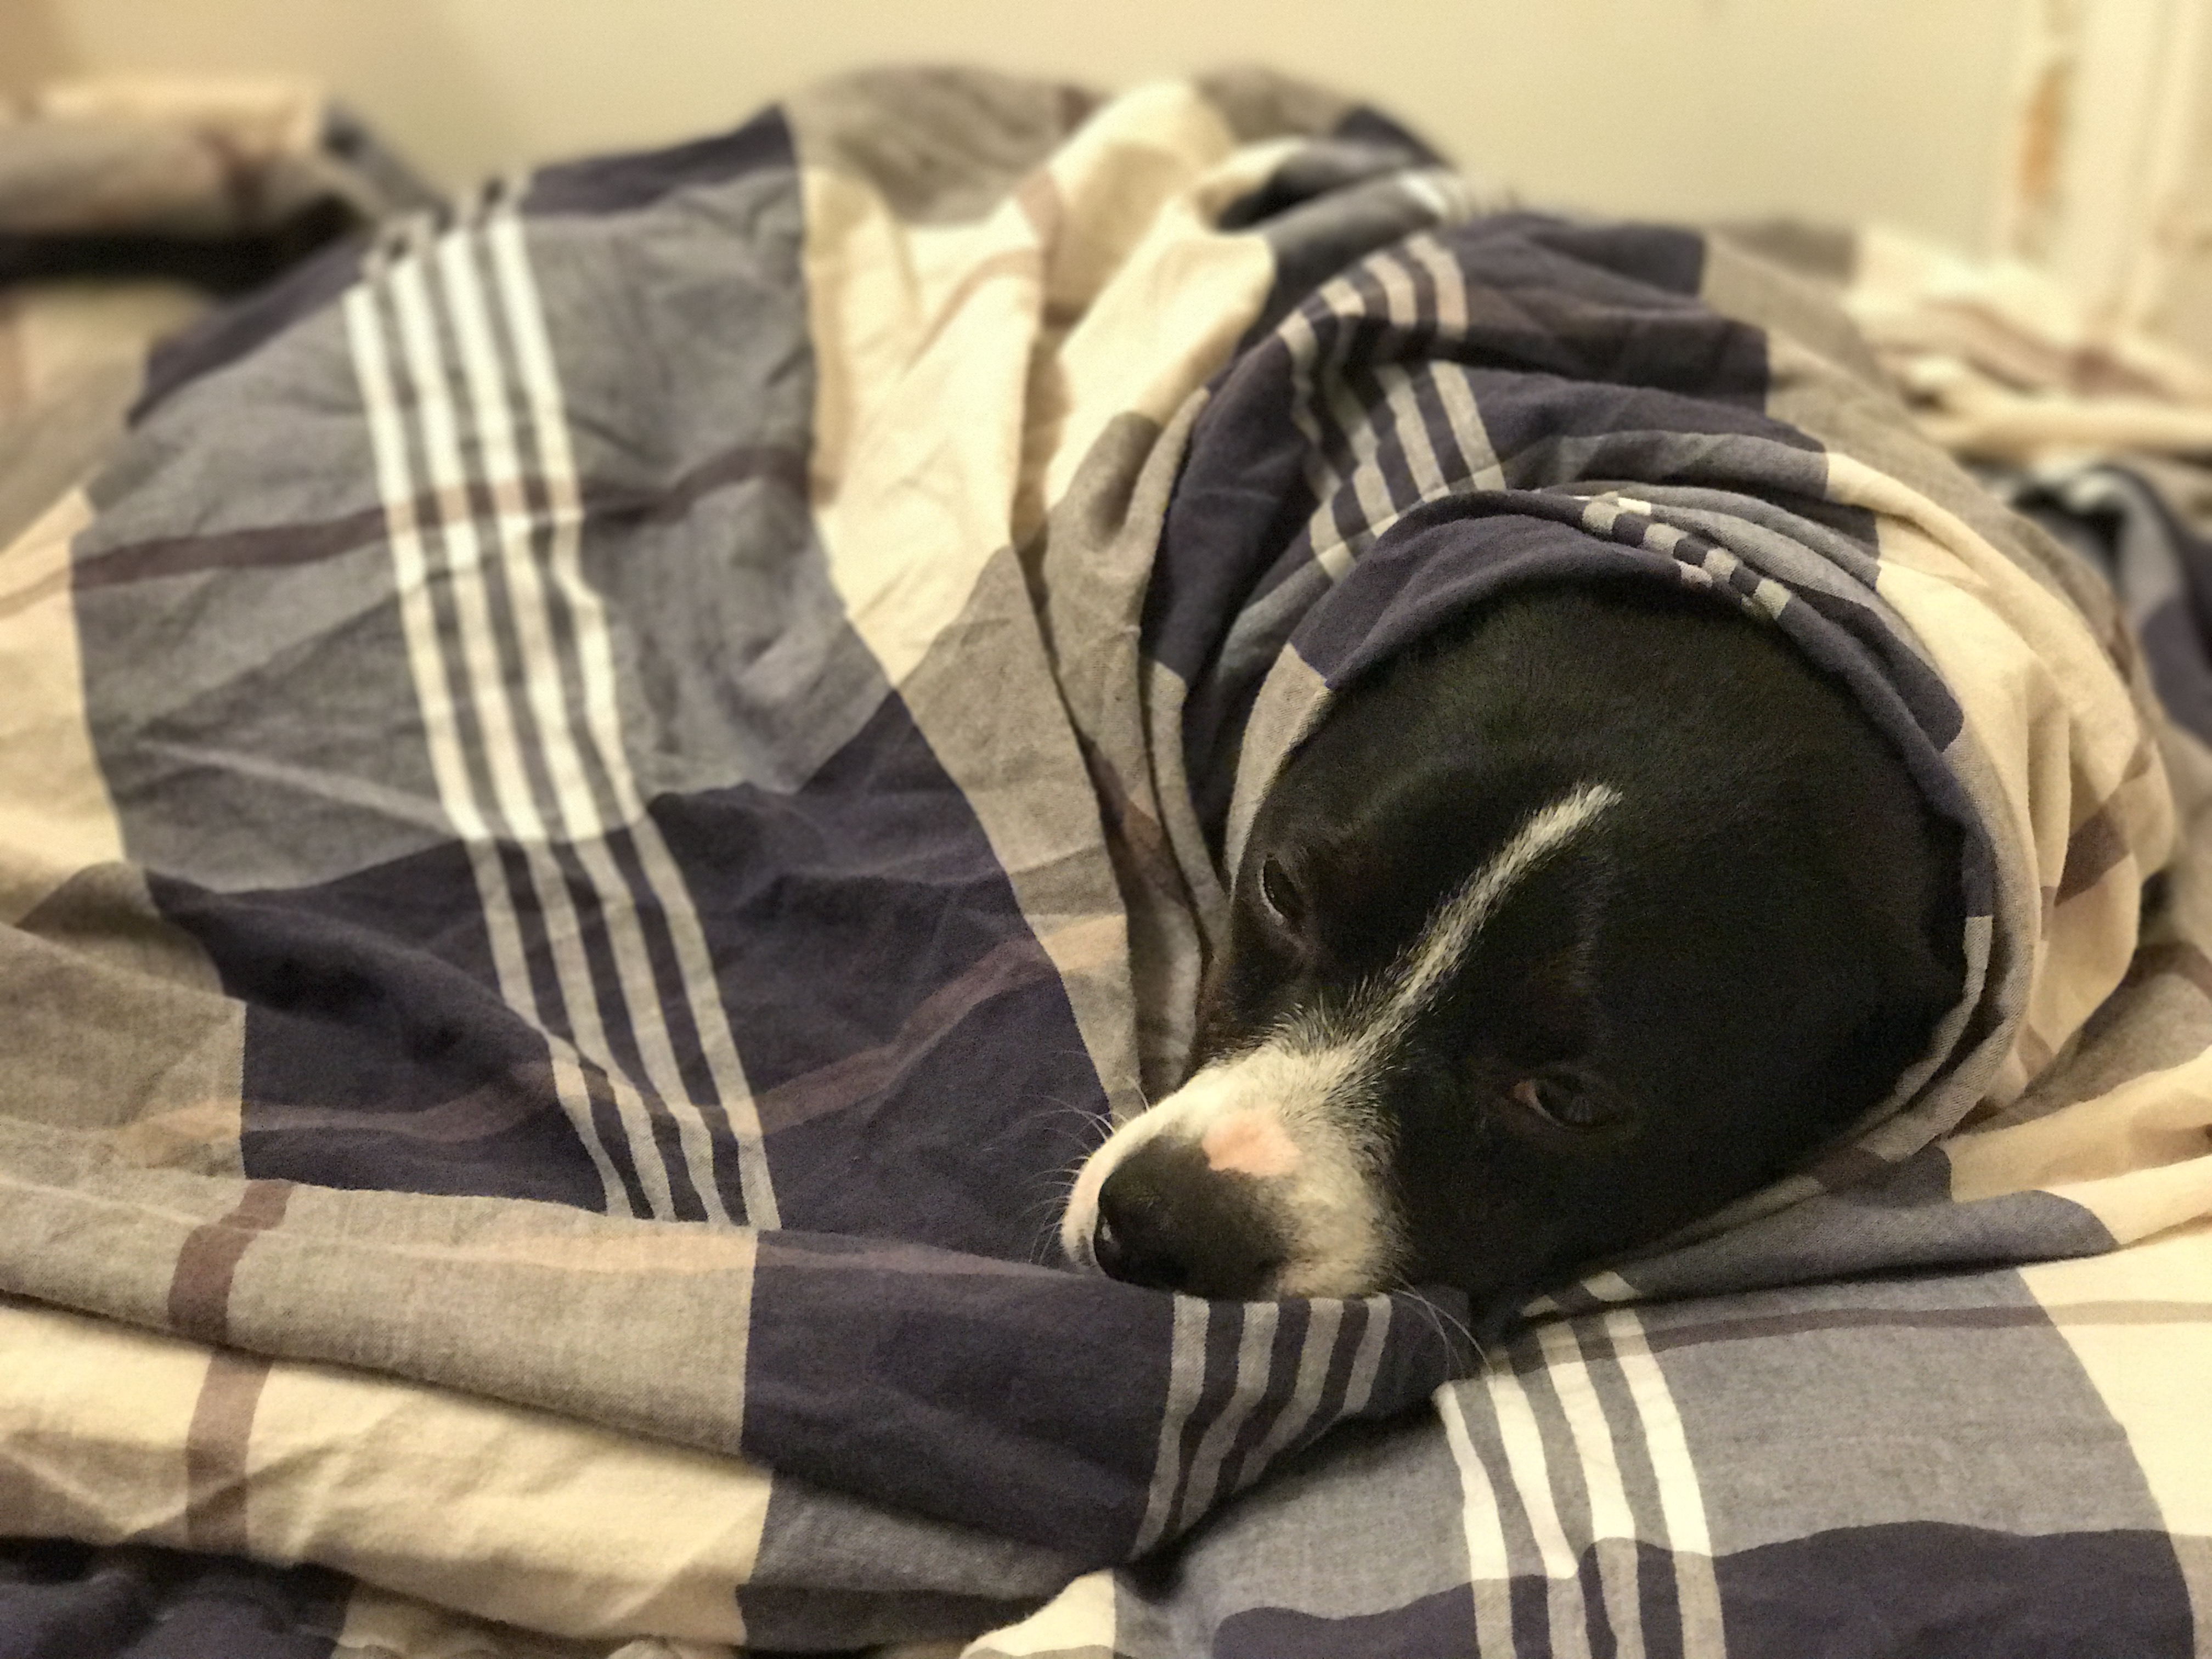Harley: (1055, 592, 2027, 1340)
